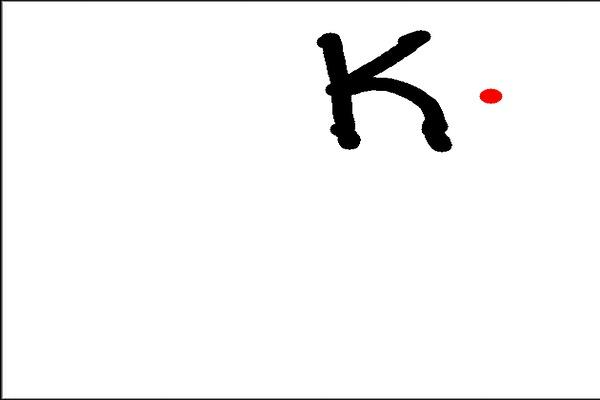K: (309, 18, 461, 158)
